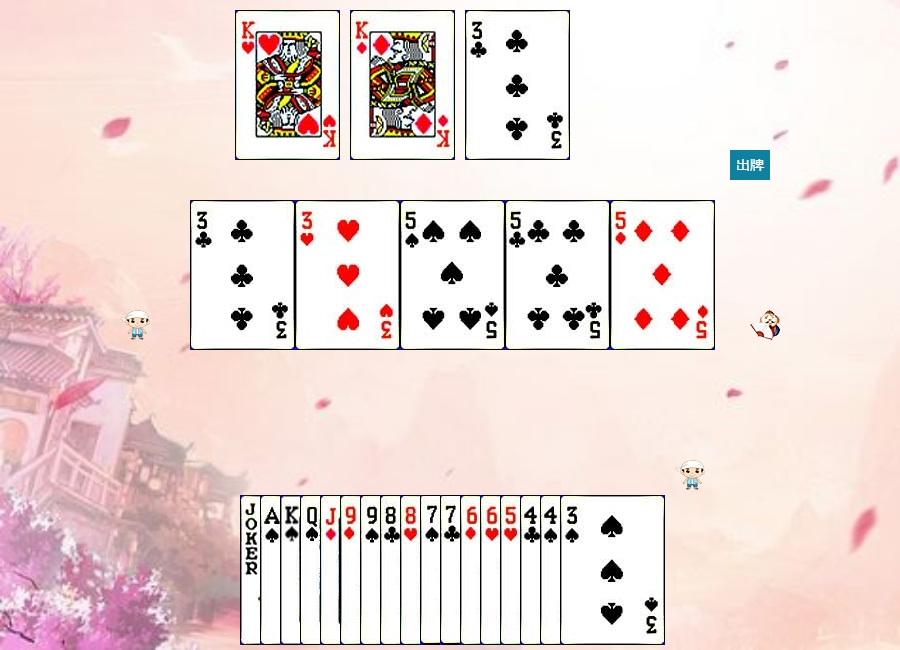11~1: (320, 495, 425, 645)
12~4: (300, 495, 405, 645)
13~1: (350, 10, 455, 160)
13~3: (235, 10, 340, 160)
13~4: (280, 495, 385, 645)
14~4: (260, 495, 365, 645)
17~3: (240, 495, 345, 645)
3~2: (465, 10, 570, 160), (190, 200, 295, 350)
3~3: (295, 200, 400, 350)
3~4: (560, 495, 665, 645)
4~2: (520, 495, 625, 645)
4~4: (540, 495, 645, 645)
5~1: (610, 200, 715, 350)
5~2: (505, 200, 610, 350)
5~3: (500, 495, 605, 645)
5~4: (400, 200, 505, 350)
6~1: (460, 495, 565, 645)
6~3: (480, 495, 585, 645)
7~2: (440, 495, 545, 645)
7~4: (420, 495, 525, 645)
8~2: (380, 495, 485, 645)
8~3: (400, 495, 505, 645)
9~1: (340, 495, 445, 645)
9~4: (360, 495, 465, 645)
